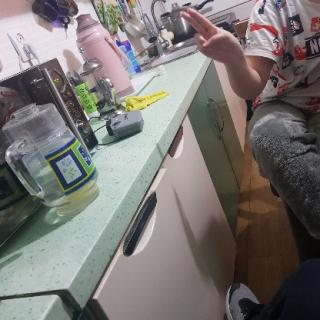TA: (181, 7, 244, 65)
